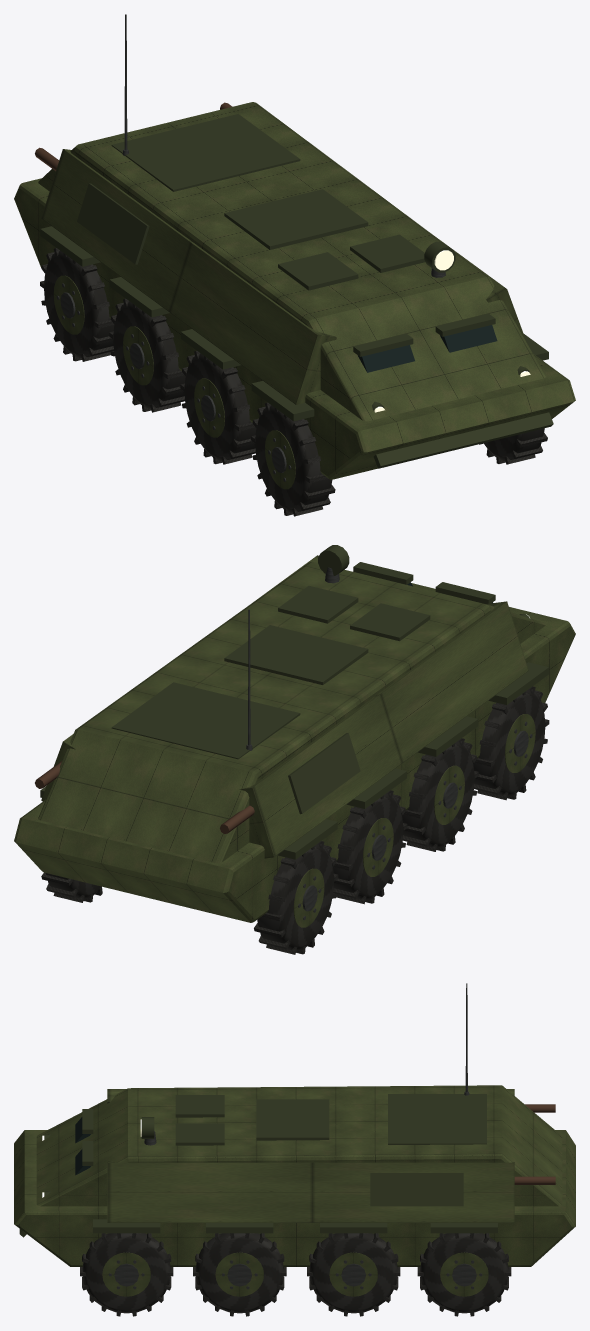
File: btr60pb_lod0.glb
The picture shows the model from 3 angles, top to bottom: view 1: azimuth 30°, elevation 25°; view 2: azimuth 150°, elevation 25°; view 3: azimuth 270°, elevation 25°; orthographic projection. The views are drawn at different scales.
Parts seen in each view (by area): view 1: BTR60_8x8_APC; view 2: BTR60_8x8_APC; view 3: BTR60_8x8_APC.
Part boxes in pixels (bbox=[...]): BTR60_8x8_APC: bbox=[14, 14, 575, 516]; BTR60_8x8_APC: bbox=[14, 545, 575, 954]; BTR60_8x8_APC: bbox=[14, 983, 575, 1316].
Size of the model in its own units: 2.98 by 3.66 by 7.1.
7 materials, 3 textured.
